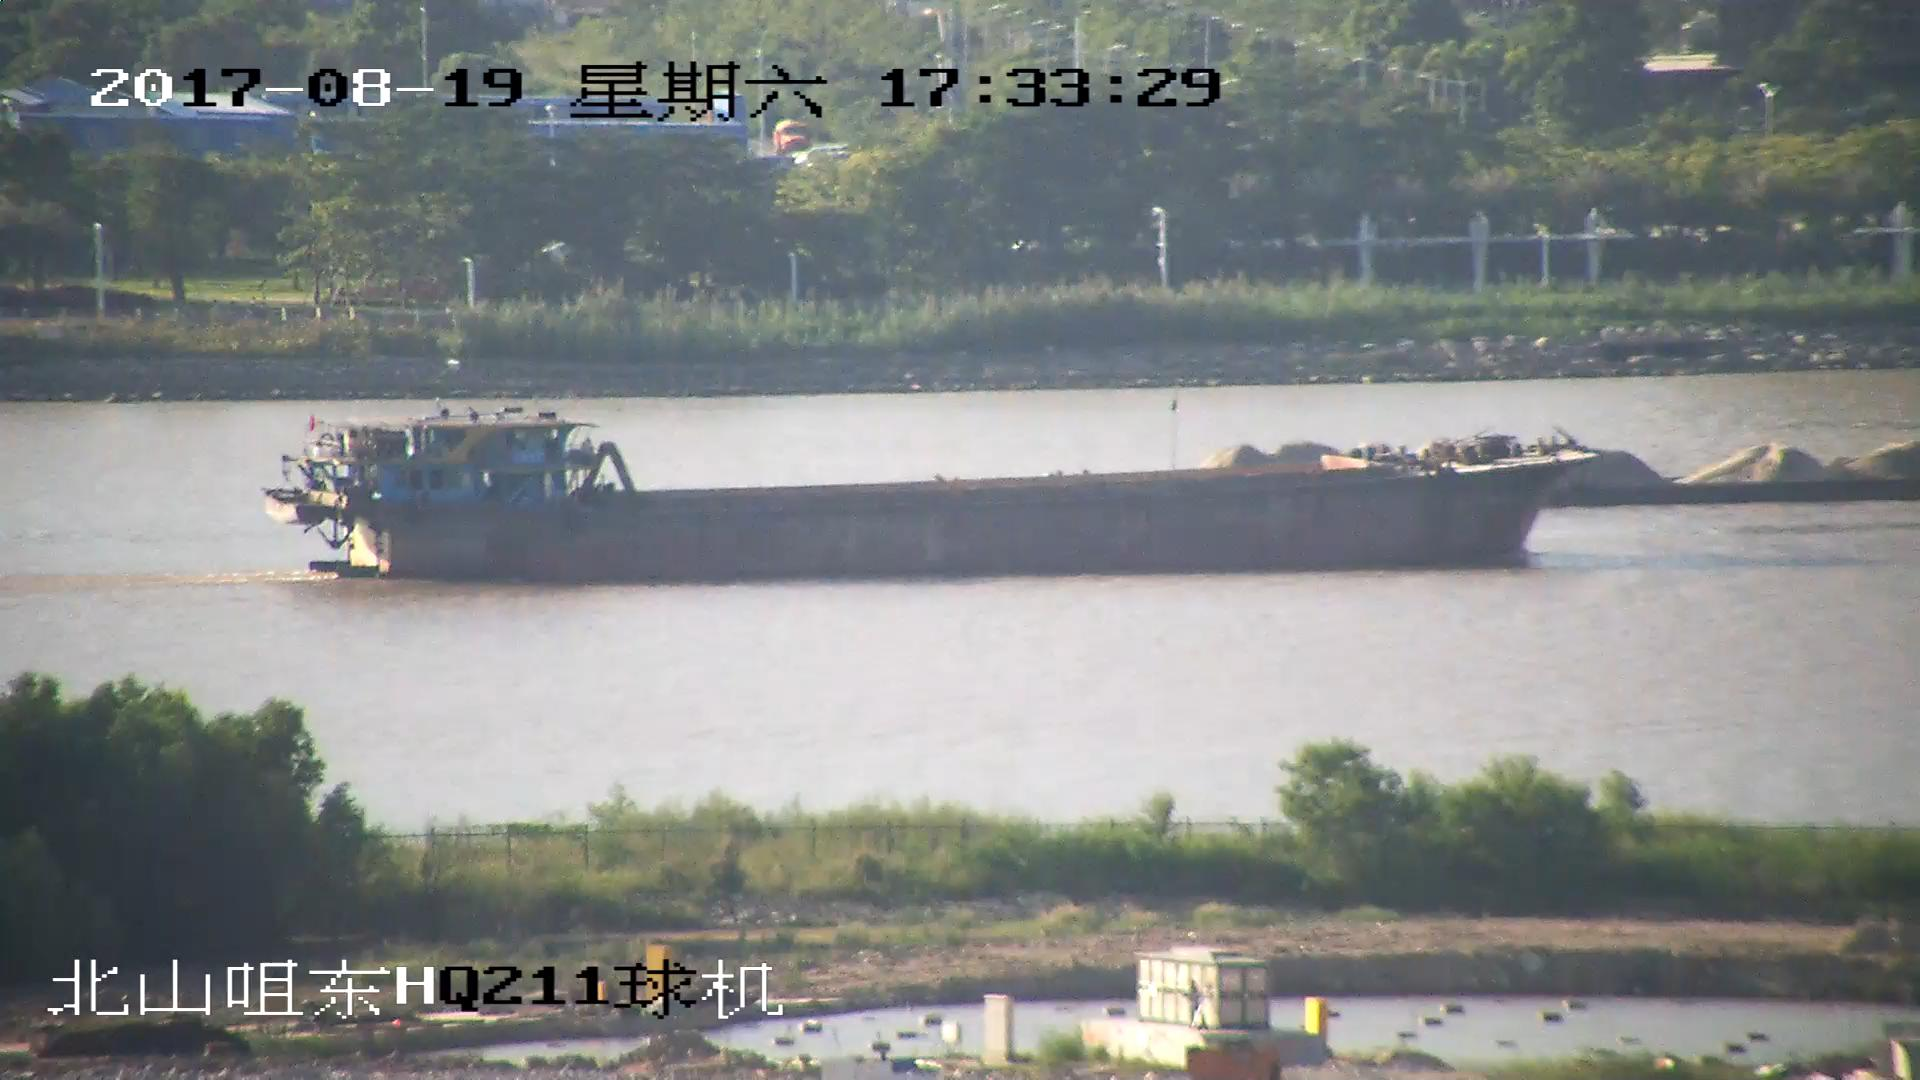bulk cargo carrier: (261, 418, 1595, 586)
ore carrier: (1542, 445, 1920, 502)
